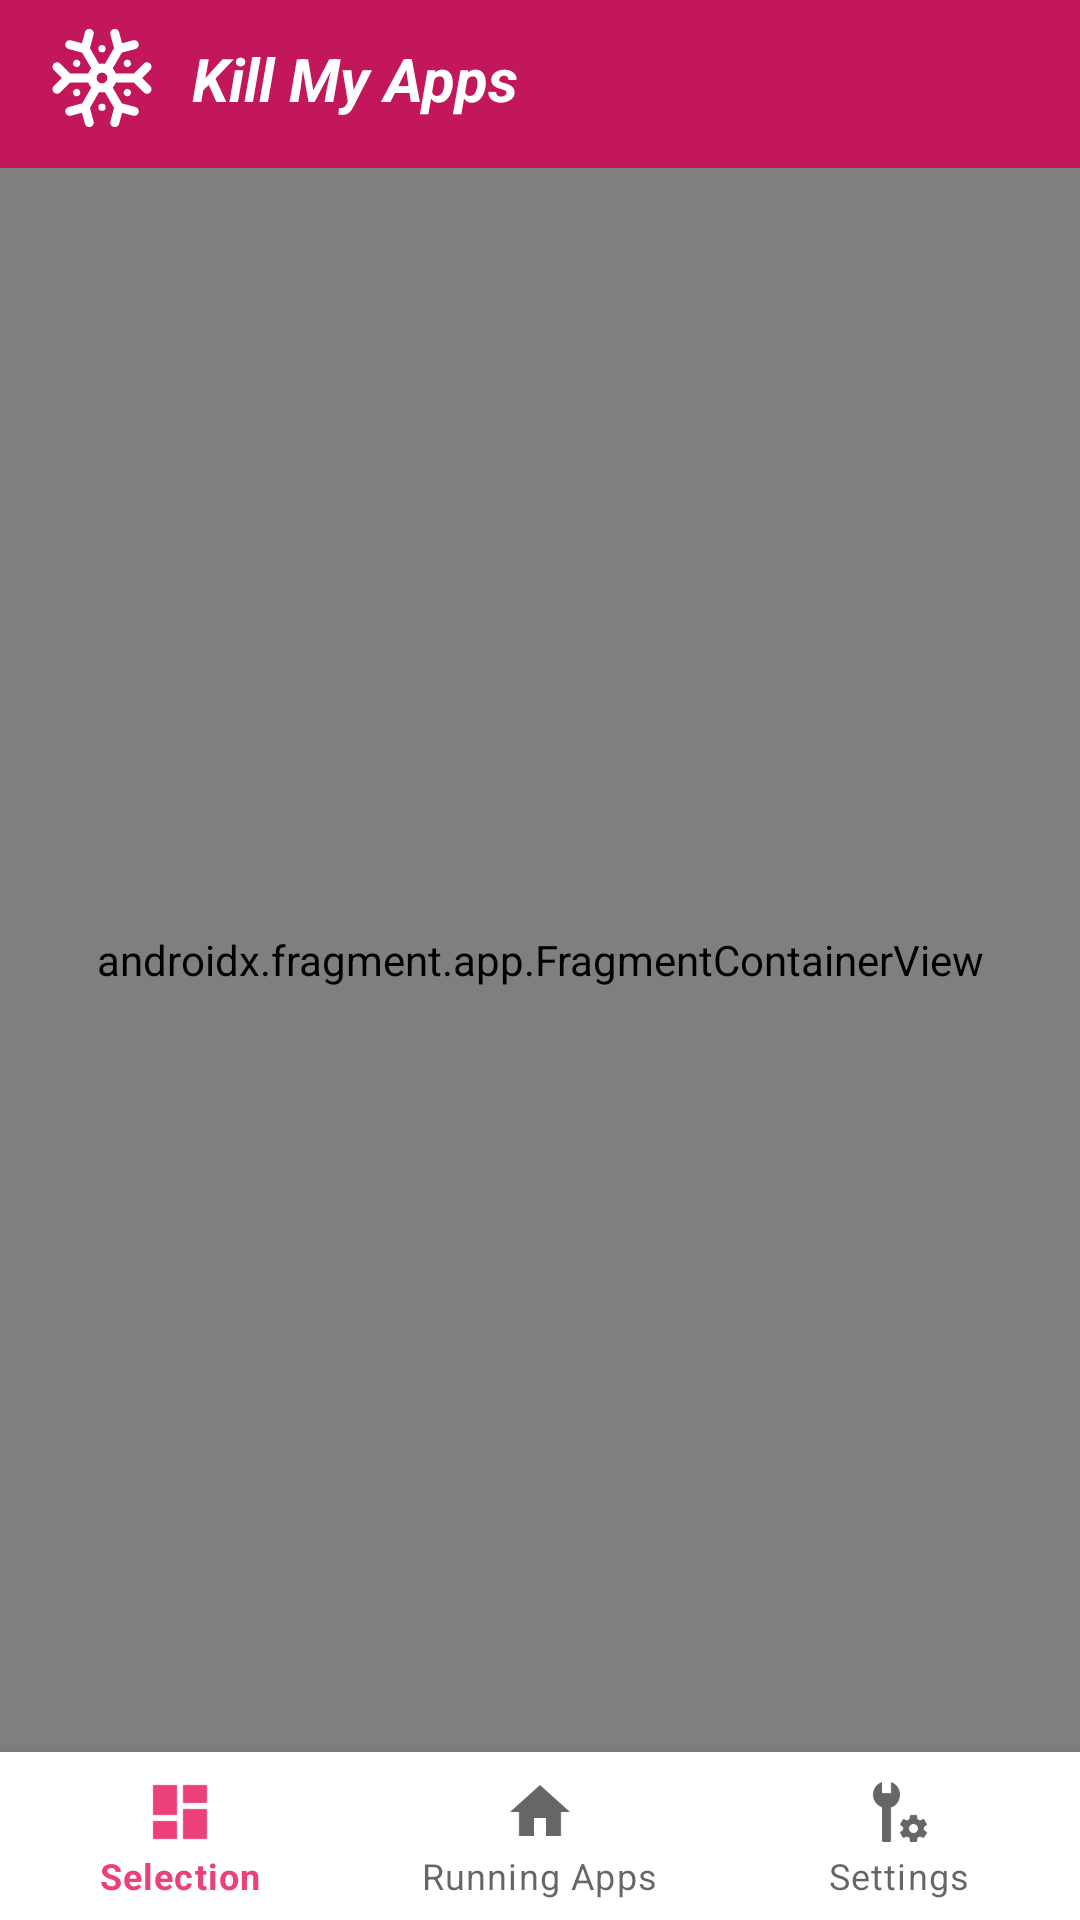

Screen size 1080×1920. Icon name, then its center in pixels as point (x, y):
snow: point (102, 78)
